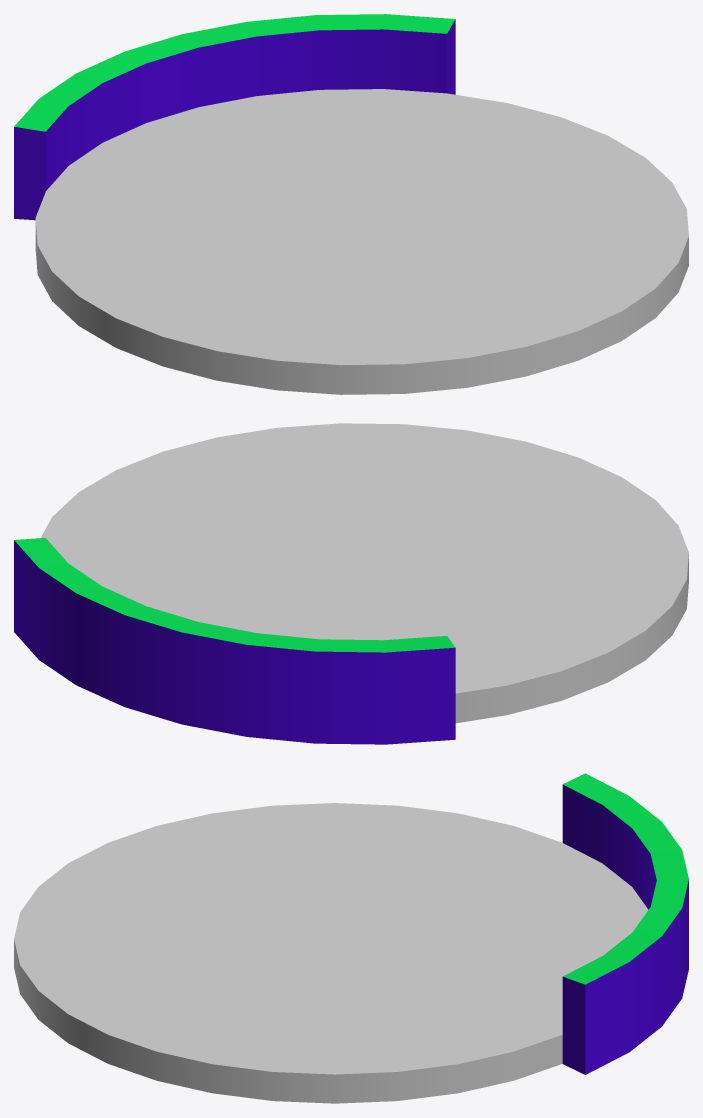
The model's file is EarthWall.fbx.
The picture shows the model from 3 angles, top to bottom: view 1: azimuth 30°, elevation 25°; view 2: azimuth 150°, elevation 25°; view 3: azimuth 270°, elevation 25°; orthographic projection.
Parts seen in each view (by area): view 1: Earth, Wall_4; view 2: Earth, Wall_4; view 3: Earth, Wall_4.
Boxes of the visible parts, x1,y1,x2,y2 form: Earth: (35,89,688,394); Wall_4: (14,14,455,220); Earth: (40,423,688,723); Wall_4: (14,538,455,744); Earth: (14,803,648,1103); Wall_4: (562,773,688,1074).
Size of what is drawn, in the model's own units: 499 by 77.5 by 525.
